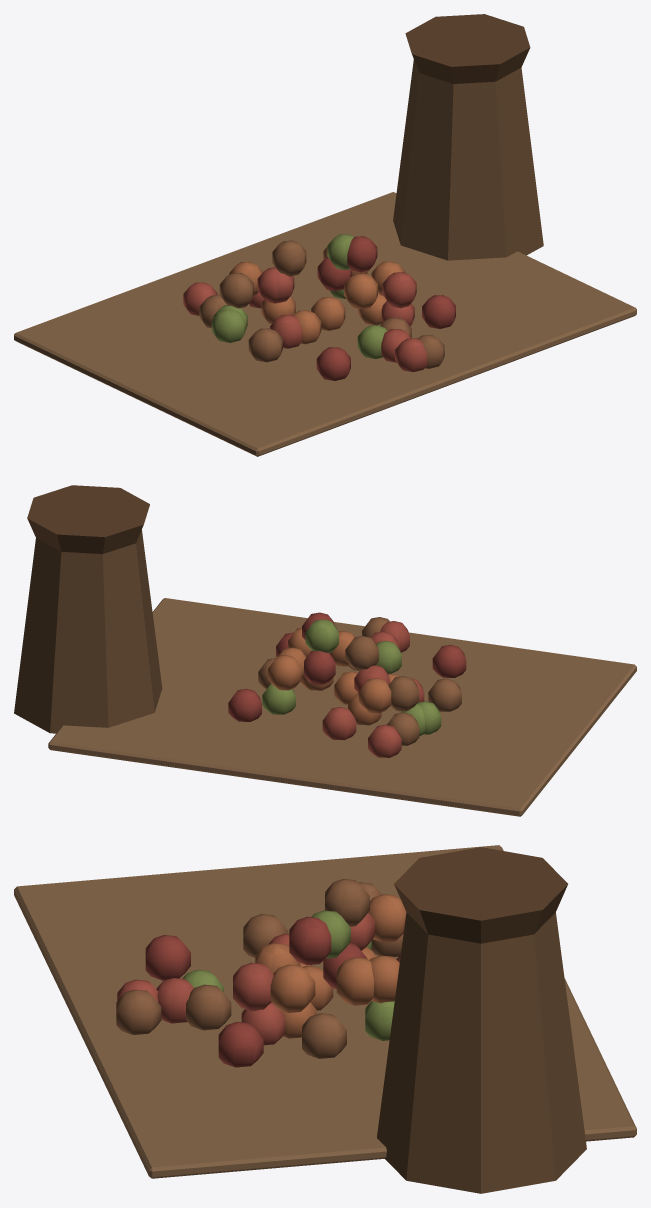
The model's file is manzanas.glb.
3 views of the same model, one above another, from view 1: azimuth 30°, elevation 25°; view 2: azimuth 150°, elevation 25°; view 3: azimuth 270°, elevation 25° (orthographic). The views are drawn at different scales.
Parts seen in each view (by area): view 1: Manzanas; view 2: Manzanas; view 3: Manzanas.
Part boxes in pixels (<box>): Manzanas: <box>14,14,636,456</box>; Manzanas: <box>14,485,636,816</box>; Manzanas: <box>14,845,636,1193</box>.
Size of the model in its own units: 1.29 by 0.47 by 1.
